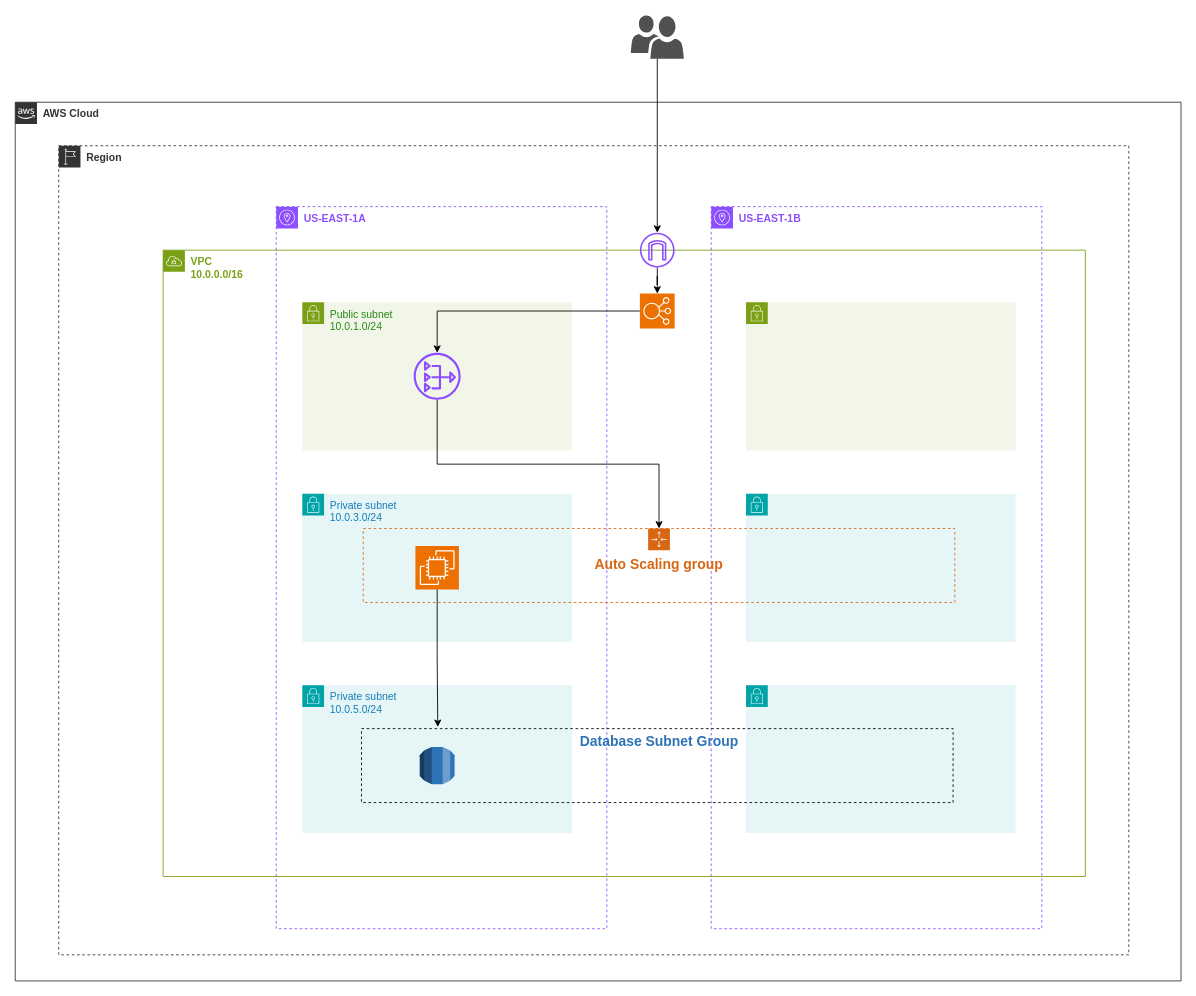
This 1196x996 diagram has some shape labels left out. Each missing label, with the centre of its shape:
Internet Gateway: the point at 656,249
NAT Gateway: the point at 436,375
Private subnet 10.0.4.0/24: the point at 880,567
Private subnet 10.0.6.0/24: the point at 880,758
Public subnet 10.0.2.0/24: the point at 880,375
